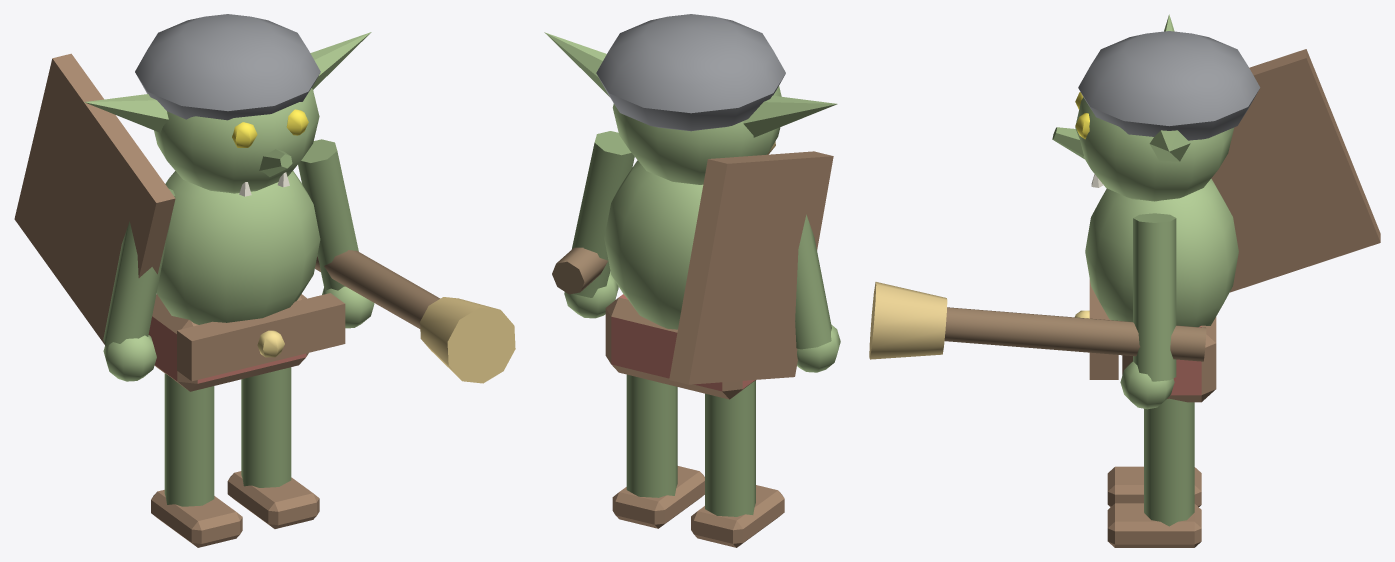
Rendered from hd_shooter.glb.
The picture shows the model from 3 angles, left to right: view 1: azimuth 30°, elevation 25°; view 2: azimuth 150°, elevation 25°; view 3: azimuth 270°, elevation 25°; orthographic projection. The views are drawn at different scales.
Parts seen in each view (by area): view 1: hd_shooter; view 2: hd_shooter; view 3: hd_shooter.
Boxes of the visible parts, x1,y1,x2,y2 form: hd_shooter: (14,14,515,547); hd_shooter: (544,14,840,547); hd_shooter: (869,14,1380,547).
Size of the model in its own units: 0.9007 by 1.45 by 1.41.
